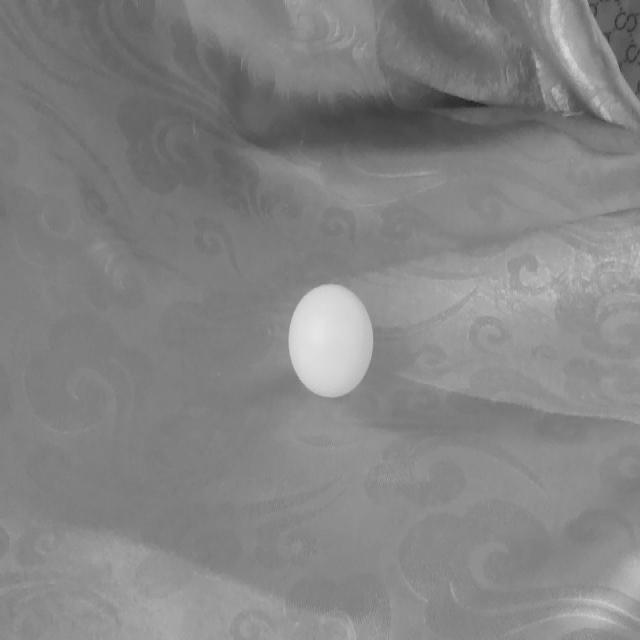ping-pong-ball: (287, 286, 374, 398)
